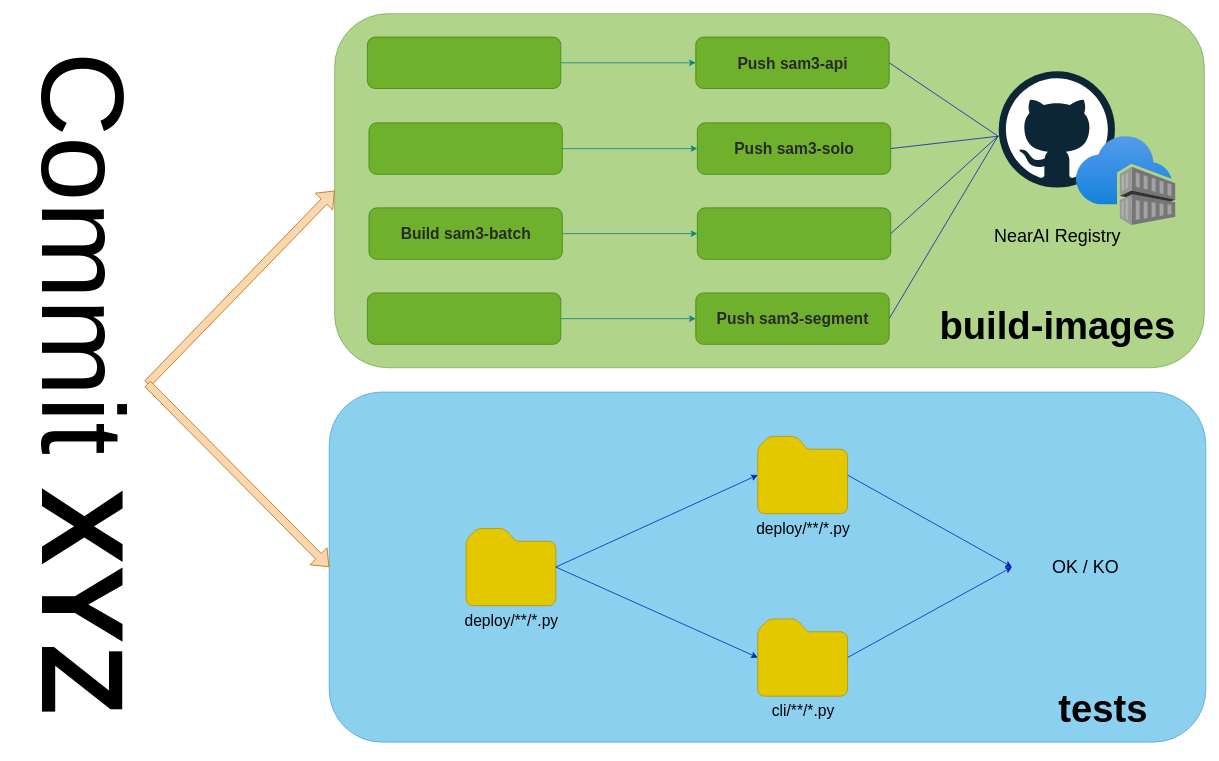
The diagram is 1219 pixels wide and 761 high, and some of its shapes have lost their labels. Each missing label, with the box of its shape:
Build sam3-api: (367, 36, 561, 89)
Build sam3-segment: (367, 292, 561, 344)
Build sam3-solo: (368, 122, 562, 174)
Push sam3-batch: (697, 207, 891, 259)
